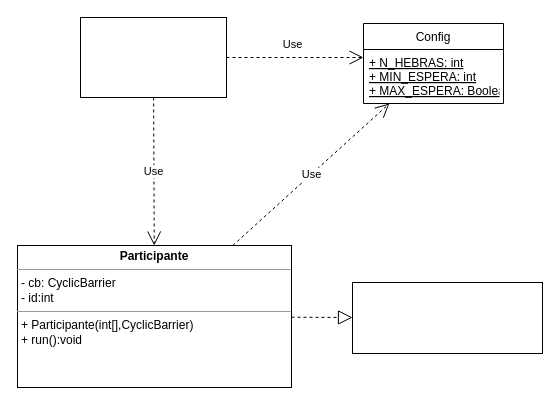
Some shapes in this 560 by 405 pixel diagram are drawn without their labels. The shapes that lost their labels are listed below. From the top down, each one's centre as x and y in pixels, then its label:
point (153, 57): MainReto5B + main ()
point (447, 318): <<Interface>> Runnable + run(): Void
